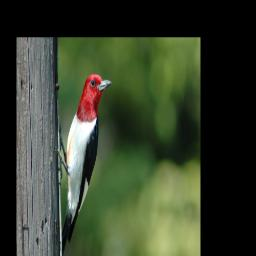Woodpecker: (51, 73, 113, 256)
